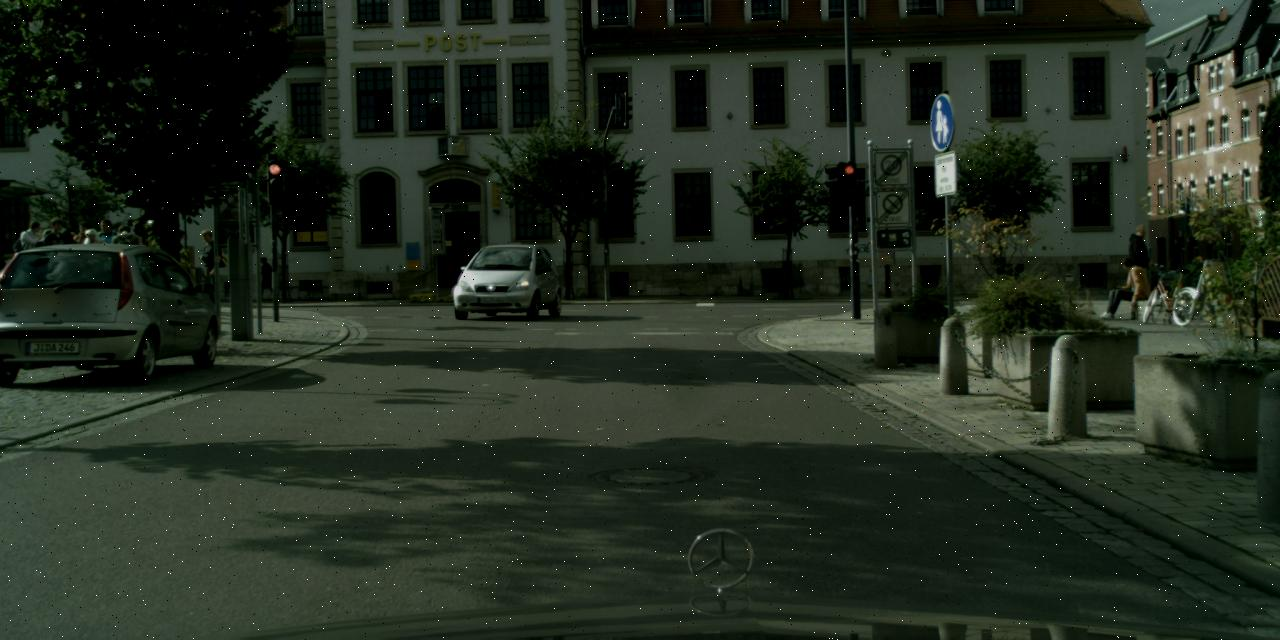ped: (1122, 225, 1157, 312), (39, 218, 73, 302), (92, 218, 125, 301), (109, 222, 142, 302), (193, 230, 226, 310), (160, 228, 192, 309), (70, 221, 102, 300), (14, 221, 45, 297), (78, 228, 109, 304), (256, 256, 274, 300), (36, 230, 50, 248), (64, 226, 78, 243)
